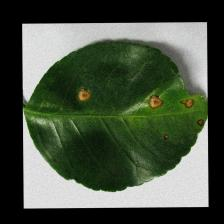canker: (64, 57, 205, 144)
